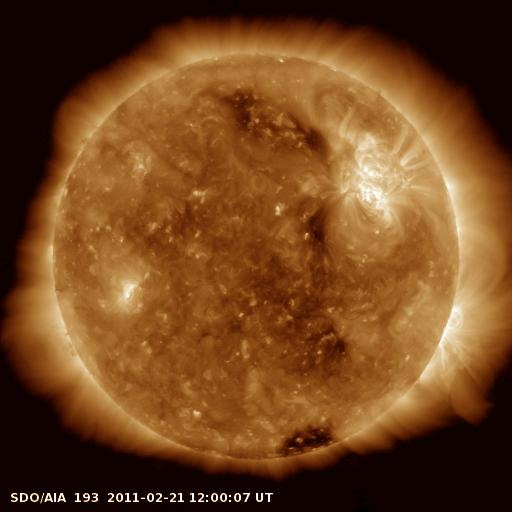coronal_hole: (268, 422, 349, 462)
